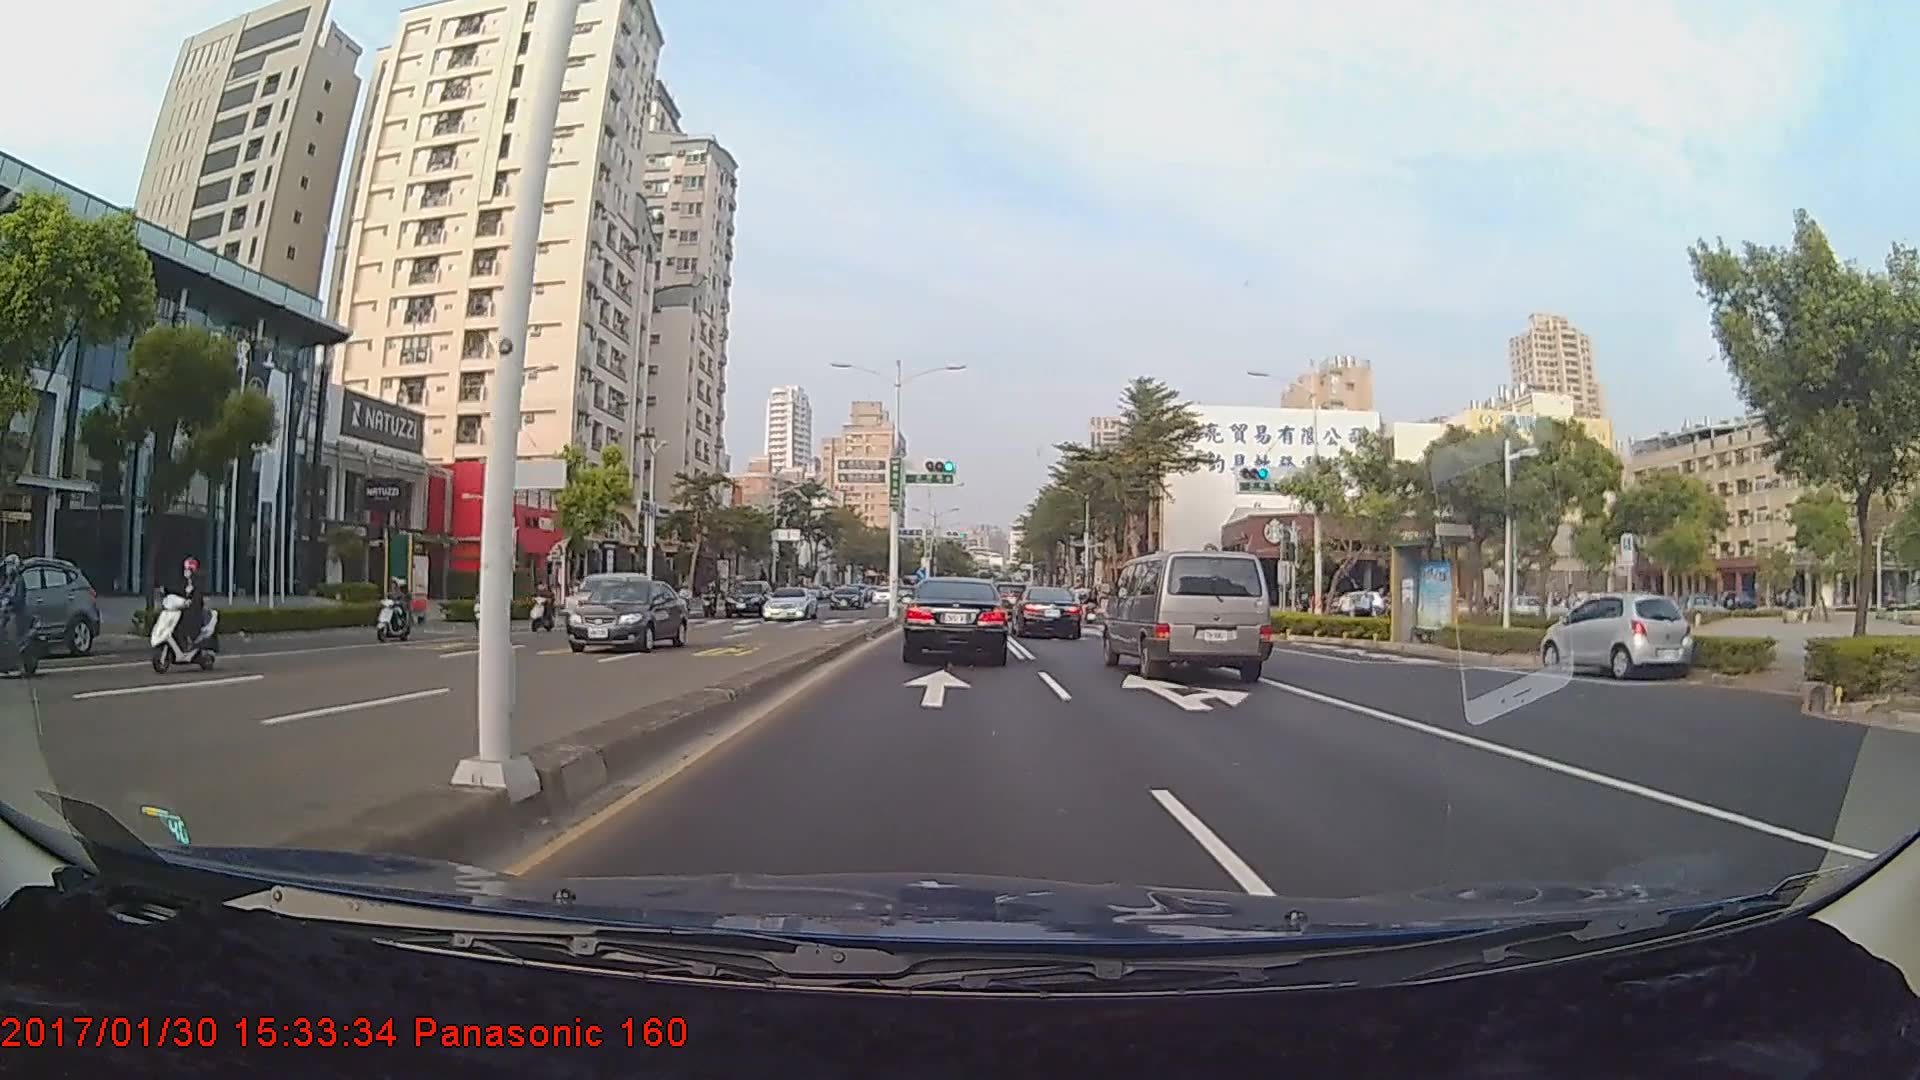rider: (144, 549, 228, 681), (1, 550, 54, 678), (370, 575, 416, 643), (526, 580, 558, 637)
vehicle: (1105, 543, 1275, 686), (1545, 590, 1690, 679), (564, 579, 690, 655), (904, 577, 1007, 662), (3, 564, 96, 651), (558, 570, 650, 628), (1010, 585, 1081, 640), (759, 586, 818, 621), (722, 578, 772, 616), (828, 583, 870, 612)
